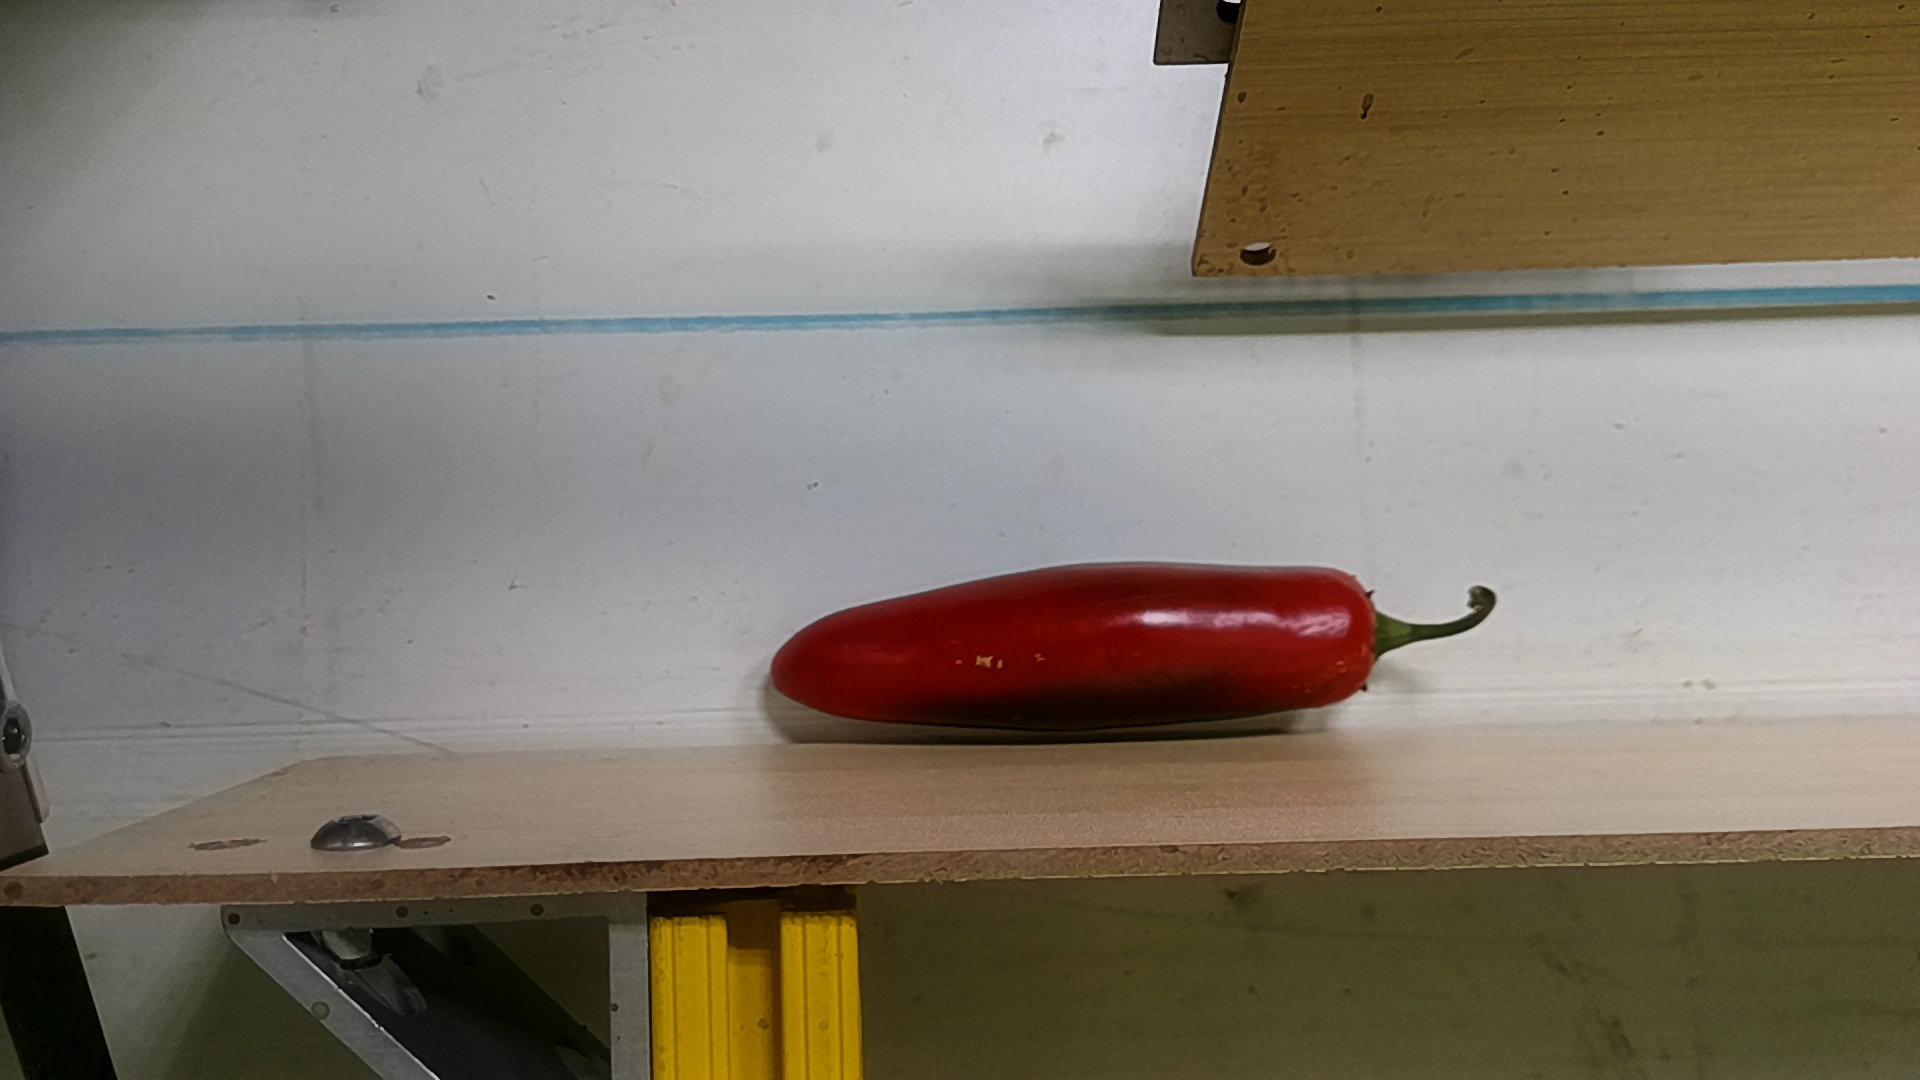Cut Point: (1323, 560, 1407, 712)
